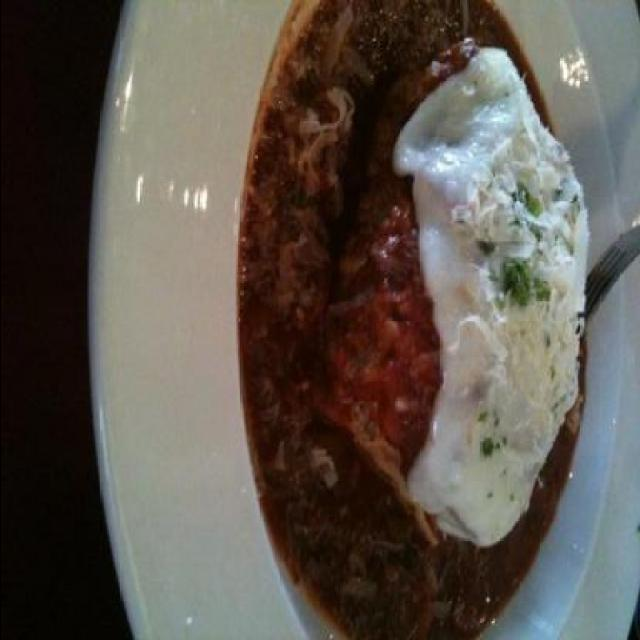Lasagna: (283, 26, 606, 557)
